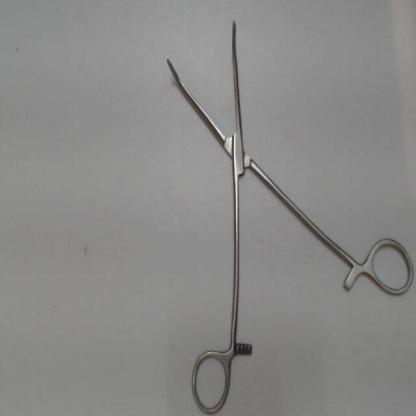Lahey Forceps: (158, 13, 414, 414)
